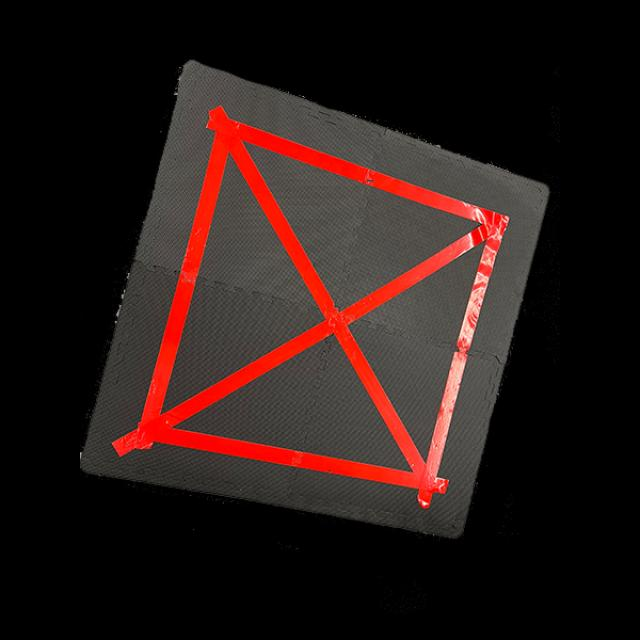landingPads: (82, 62, 552, 538)
